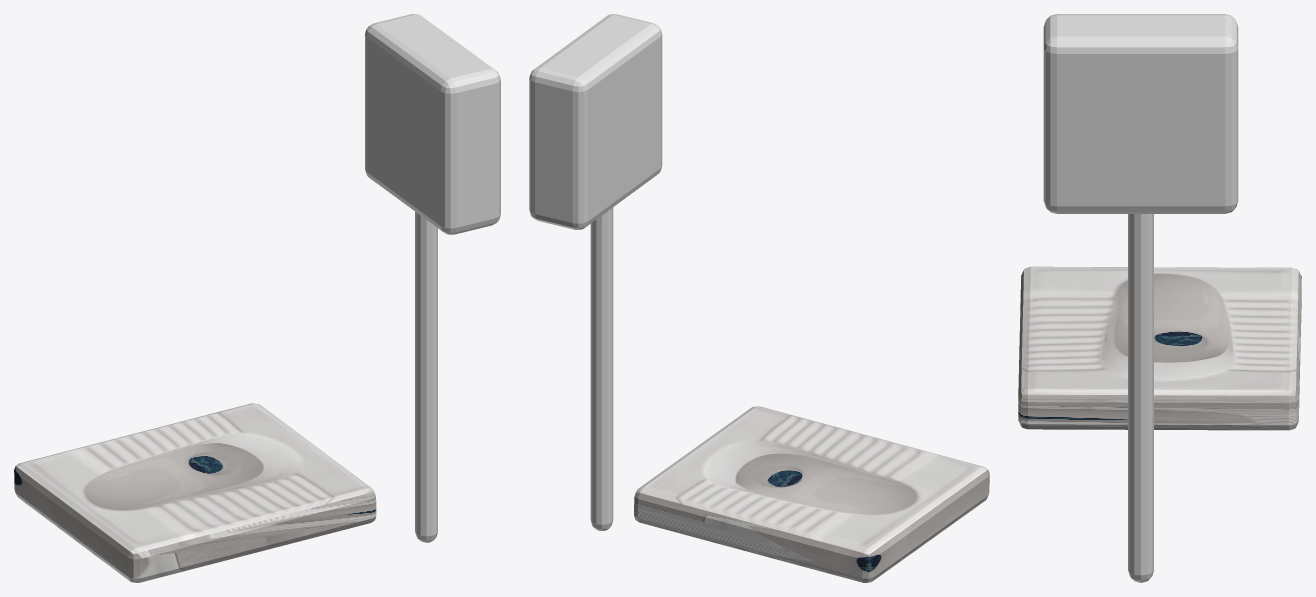
The model's file is toilet.fbx.
3 renders of one model, left to right at view 1: azimuth 30°, elevation 25°; view 2: azimuth 150°, elevation 25°; view 3: azimuth 270°, elevation 25°, orthographic. The views are drawn at different scales.
Parts seen in each view (by area): view 1: Cube.008, Cube.009; view 2: Cube.008, Cube.009; view 3: Cube.009, Cube.008.
Boxes of the visible parts, left/top/right/bottom form: Cube.008: left=14, top=403, right=376, bottom=582; Cube.009: left=365, top=14, right=500, bottom=542; Cube.008: left=634, top=406, right=989, bottom=582; Cube.009: left=529, top=14, right=662, bottom=530; Cube.009: left=1043, top=14, right=1238, bottom=582; Cube.008: left=1018, top=266, right=1301, bottom=430.
Bounding box in the file's own units: 514 × 635 × 291.
Materials: 2 (1 with a texture image).
